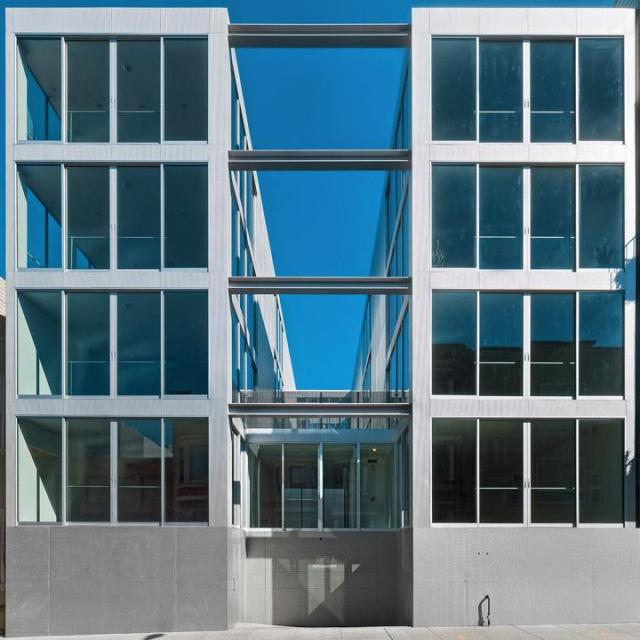wall: (4, 8, 637, 632)
windows: (13, 418, 209, 523), (432, 420, 620, 526), (17, 164, 204, 270), (428, 38, 623, 139), (15, 292, 204, 396), (430, 295, 626, 395), (430, 164, 620, 266), (18, 41, 205, 139), (250, 444, 394, 529)
